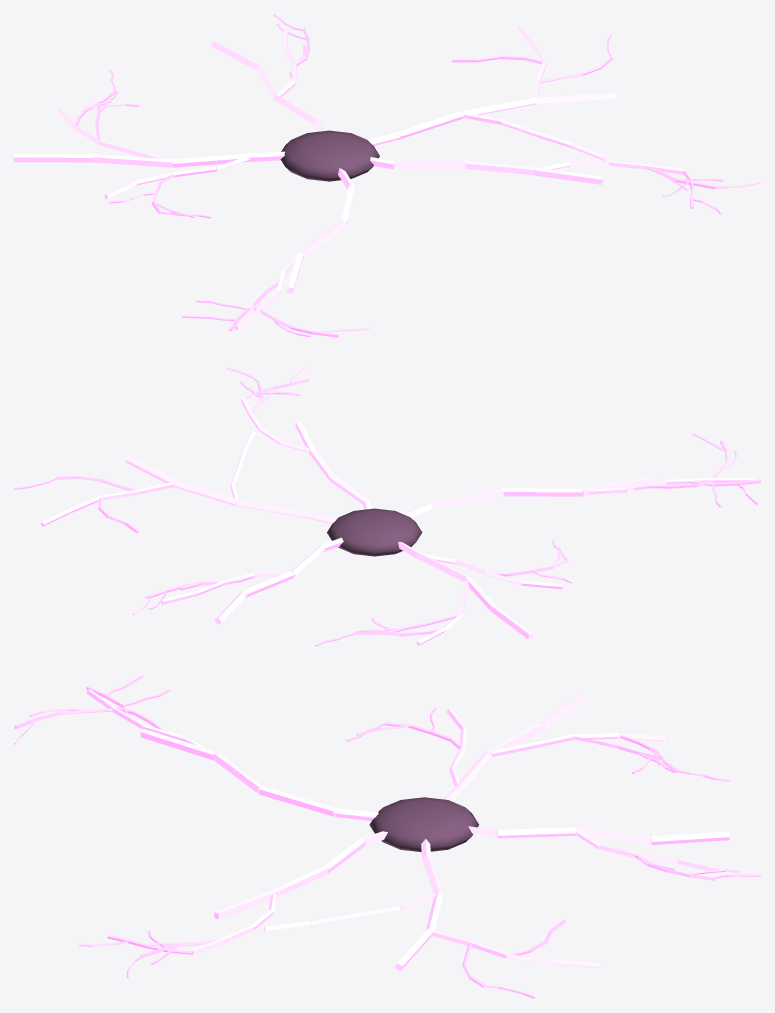
The model's file is v_alien_veins.glb.
The picture shows the model from 3 angles, top to bottom: view 1: azimuth 30°, elevation 25°; view 2: azimuth 150°, elevation 25°; view 3: azimuth 270°, elevation 25°; orthographic projection. The views are drawn at different scales.
Visible parts, largest first — view 1: Alien_veins; view 2: Alien_veins; view 3: Alien_veins.
Part boxes in pixels (bbox=[...]): Alien_veins: bbox=[14, 14, 760, 337]; Alien_veins: bbox=[14, 366, 760, 646]; Alien_veins: bbox=[14, 675, 760, 998].
Bounding box in the file's own units: 8.32 × 0.36 × 8.15.
